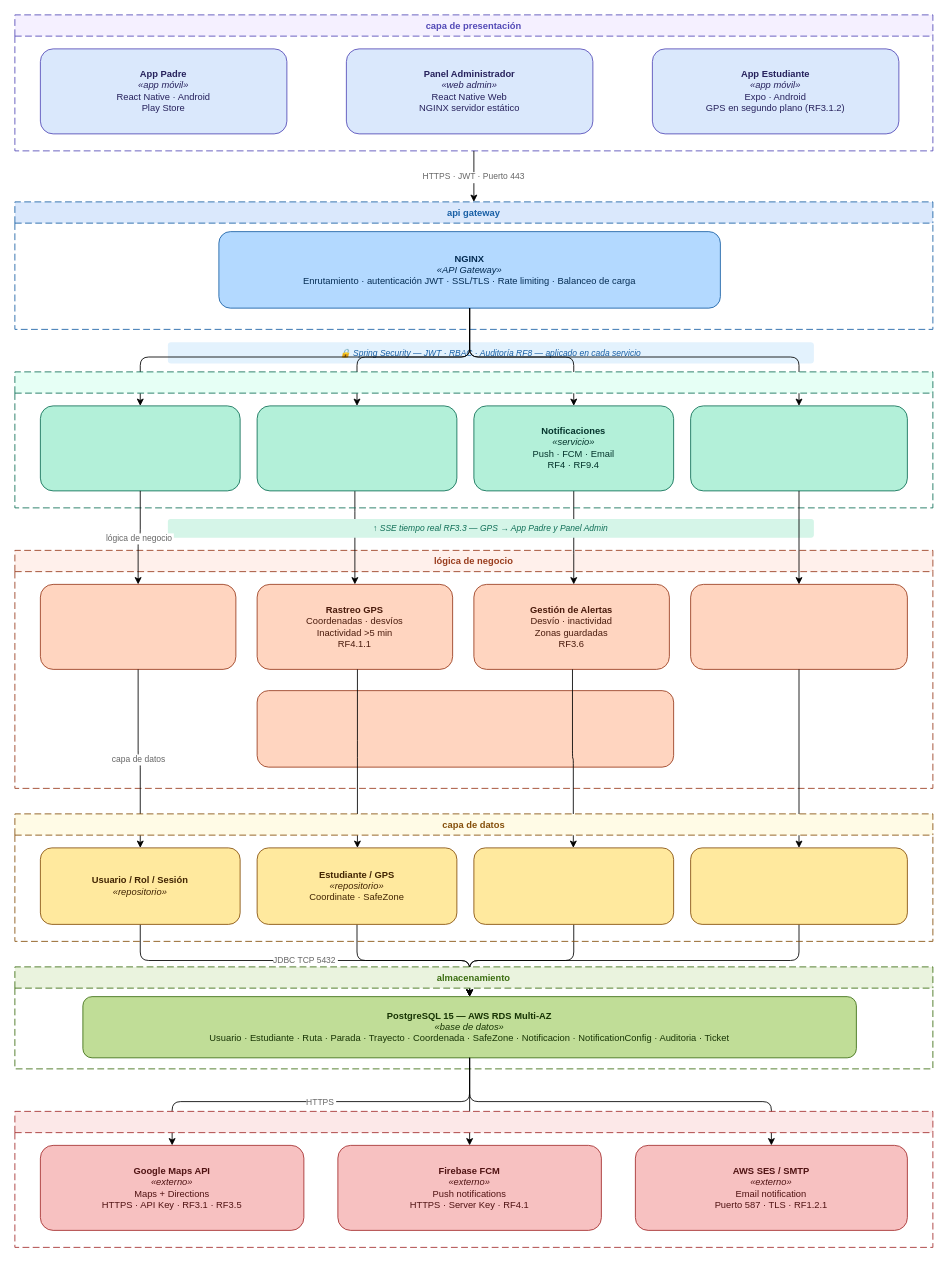
Image size: 948x1262. Some labels were removed from this diagram. The shapes that lost their labels are listed below. From the top down, each one's box as (x1, y1, x2, y2) in pixels, then its label:
(40, 405, 240, 491): Autenticación «servicio» JWT · BCrypt RF1 · RF8.2
(256, 405, 457, 491): GPS «servicio» WebSocket · SSE RF3 · RF9.3
(14, 371, 933, 508): capa de servicios (backend)
(690, 405, 907, 491): Administración «servicio» Usuarios · Rutas RF2 · RF7
(40, 584, 236, 669): Gestión de Usuarios Registro · roles RBAC · N:M rutas
(690, 584, 907, 669): Historial de Trayectos Filtros · reportes RF5 · RF9.5
(256, 690, 674, 767): Soporte Técnico Tickets RF7.1.1 — Pendiente / En proceso / Resuelto
(473, 847, 674, 924): Notificación / Config «repositorio» NotificationConfig
(690, 847, 907, 924): Auditoría / Tickets «repositorio» Log errores · Soporte
(14, 1111, 933, 1247): servicios externos
